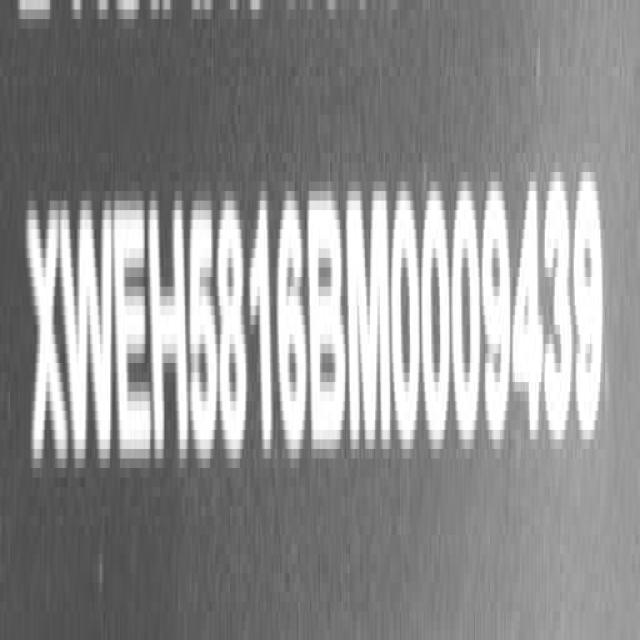0: (451, 173, 483, 474), (418, 163, 451, 449), (390, 187, 420, 453)
1: (248, 188, 274, 467)
3: (542, 156, 572, 456)
4: (514, 162, 542, 446)
5: (190, 194, 218, 470)
6: (277, 188, 307, 478)
8: (215, 191, 248, 481)
9: (573, 170, 604, 449), (481, 184, 512, 460)
B: (308, 198, 346, 464)
E: (112, 198, 151, 481)
H: (148, 202, 190, 481)
M: (344, 194, 394, 470)
W: (62, 188, 115, 492)
X: (24, 188, 70, 488)
